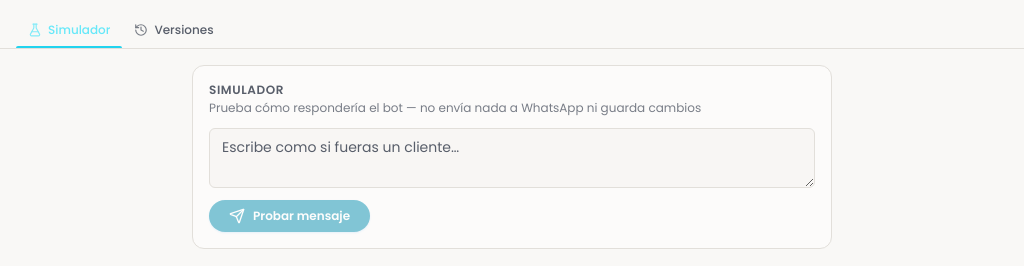
Test case: ConfigVersionsPanel — Pruebas: simulador + versiones (PixelBot Console) › lista las versiones con status traducido en el subtab Versiones
The image size is (1024, 266).
Click the tab "Versiones" at (174, 30), box [122, 12, 226, 48]
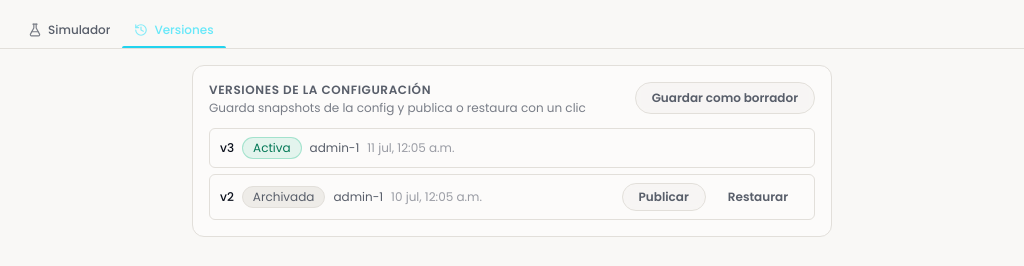
Expected: the text "v3" is shown, [220, 140, 234, 156]
Expected: the text "v2" is shown, [220, 189, 234, 205]
Expected: the text "Activa" is shown, [242, 137, 302, 159]
